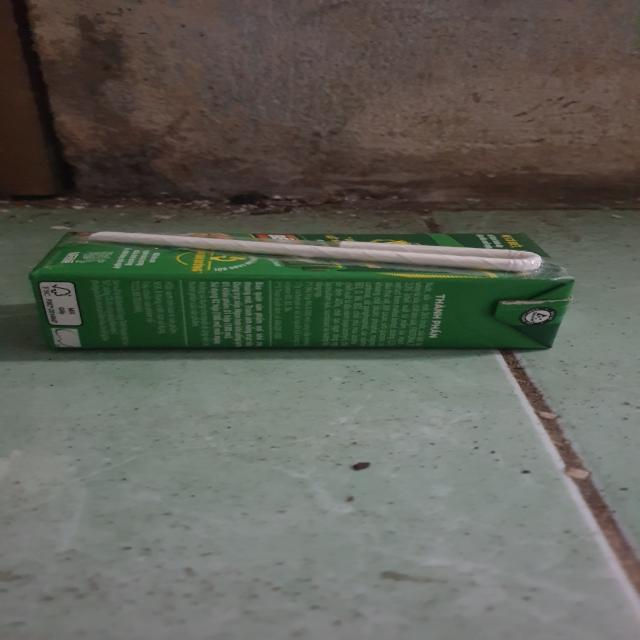Milo: (28, 228, 584, 358)
